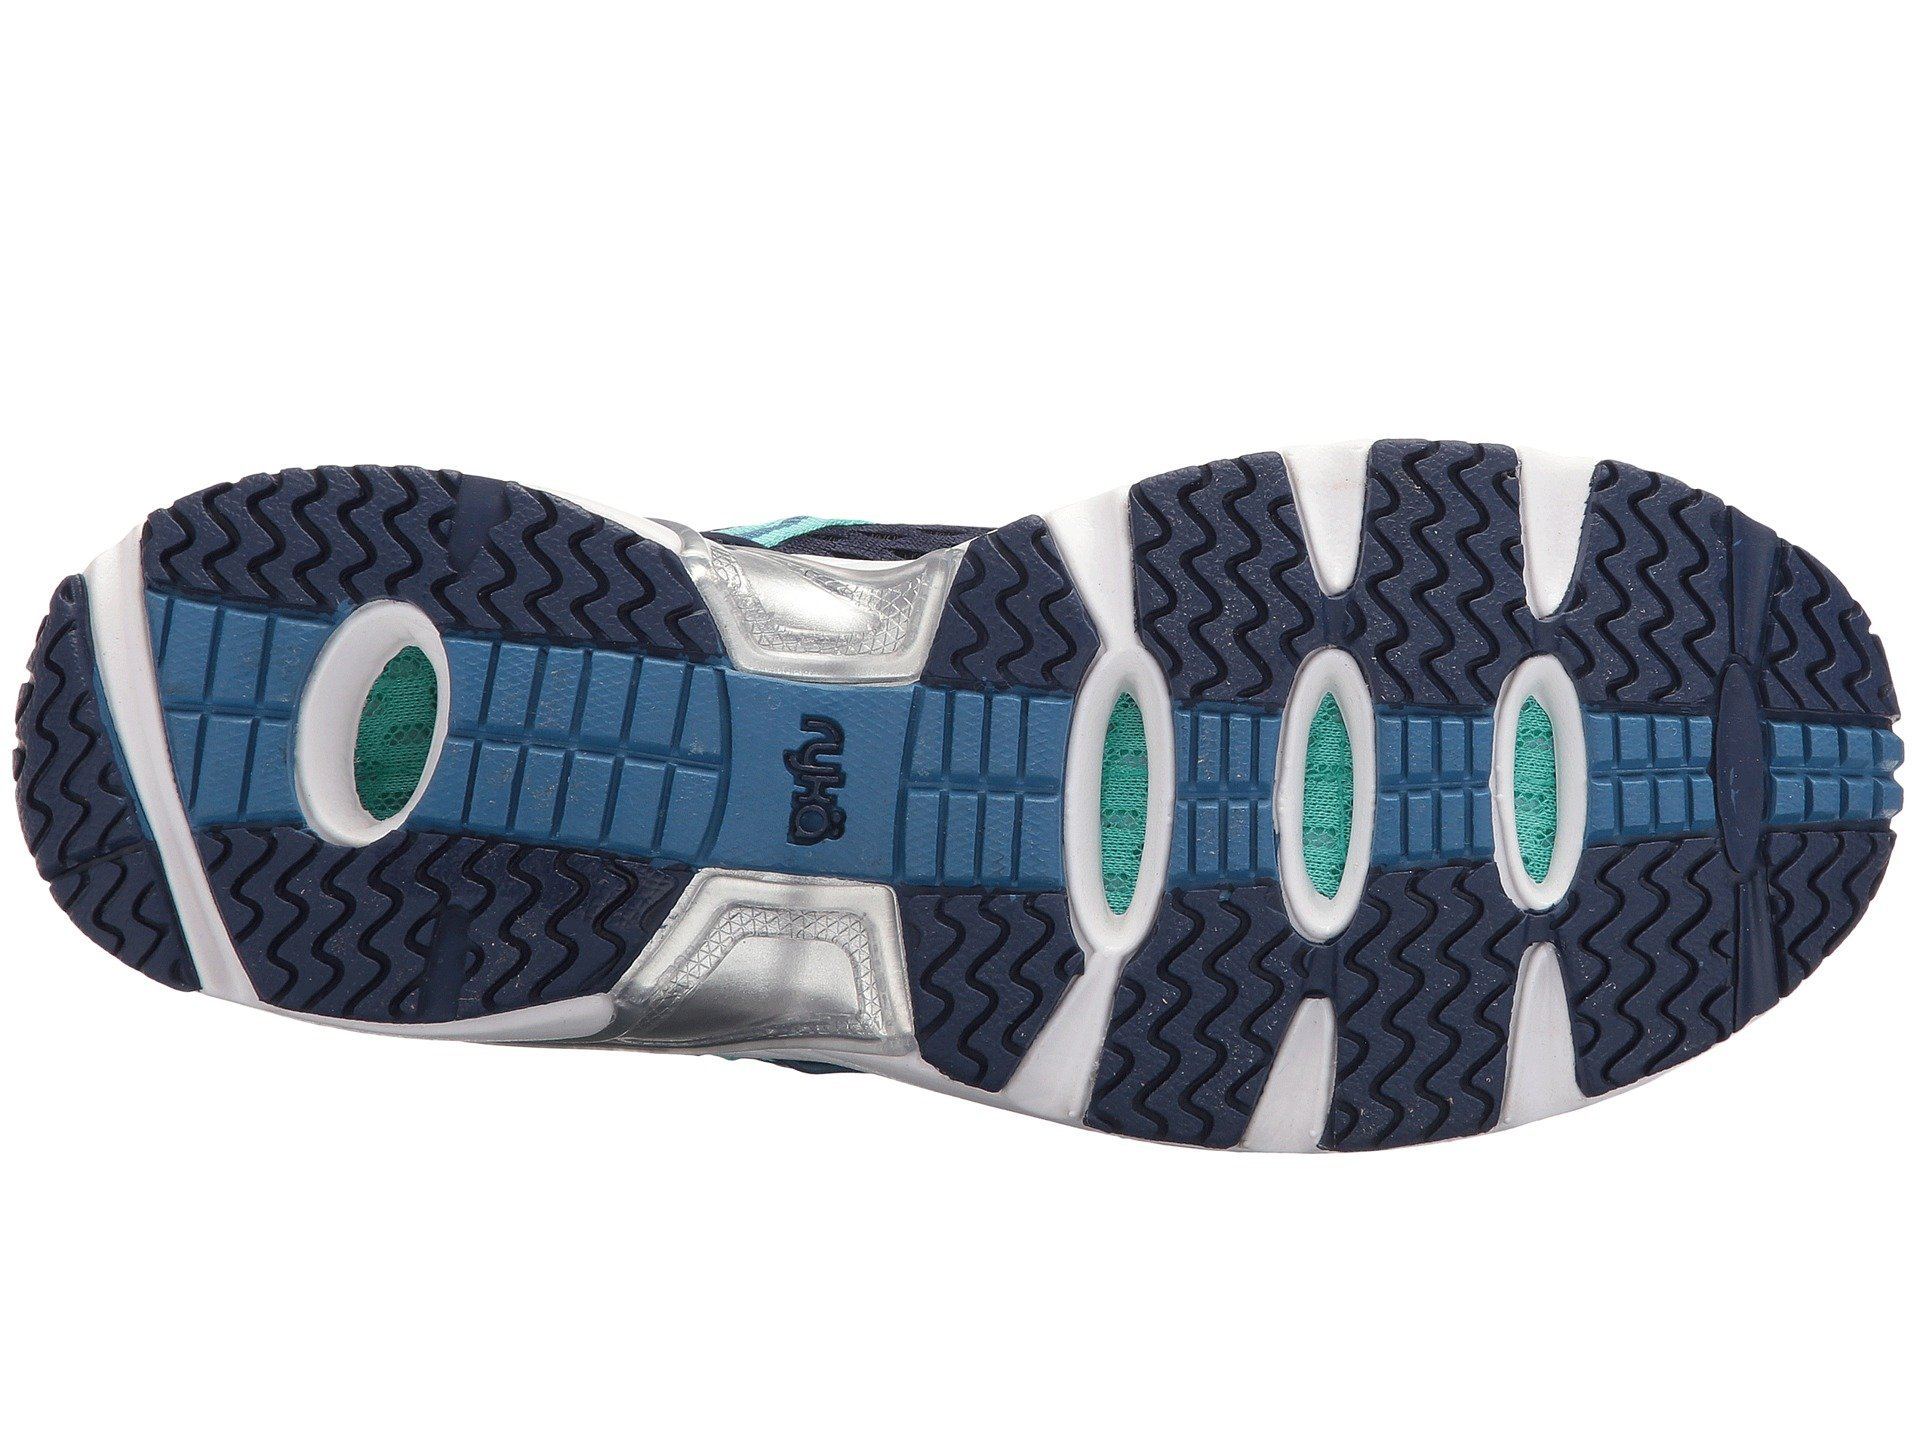chevron: (1040, 617, 1240, 992)
circle: (1040, 617, 1240, 992), (1466, 632, 1603, 927), (754, 696, 877, 865)
quad: (1040, 617, 1240, 992)
text: (754, 696, 877, 865)
